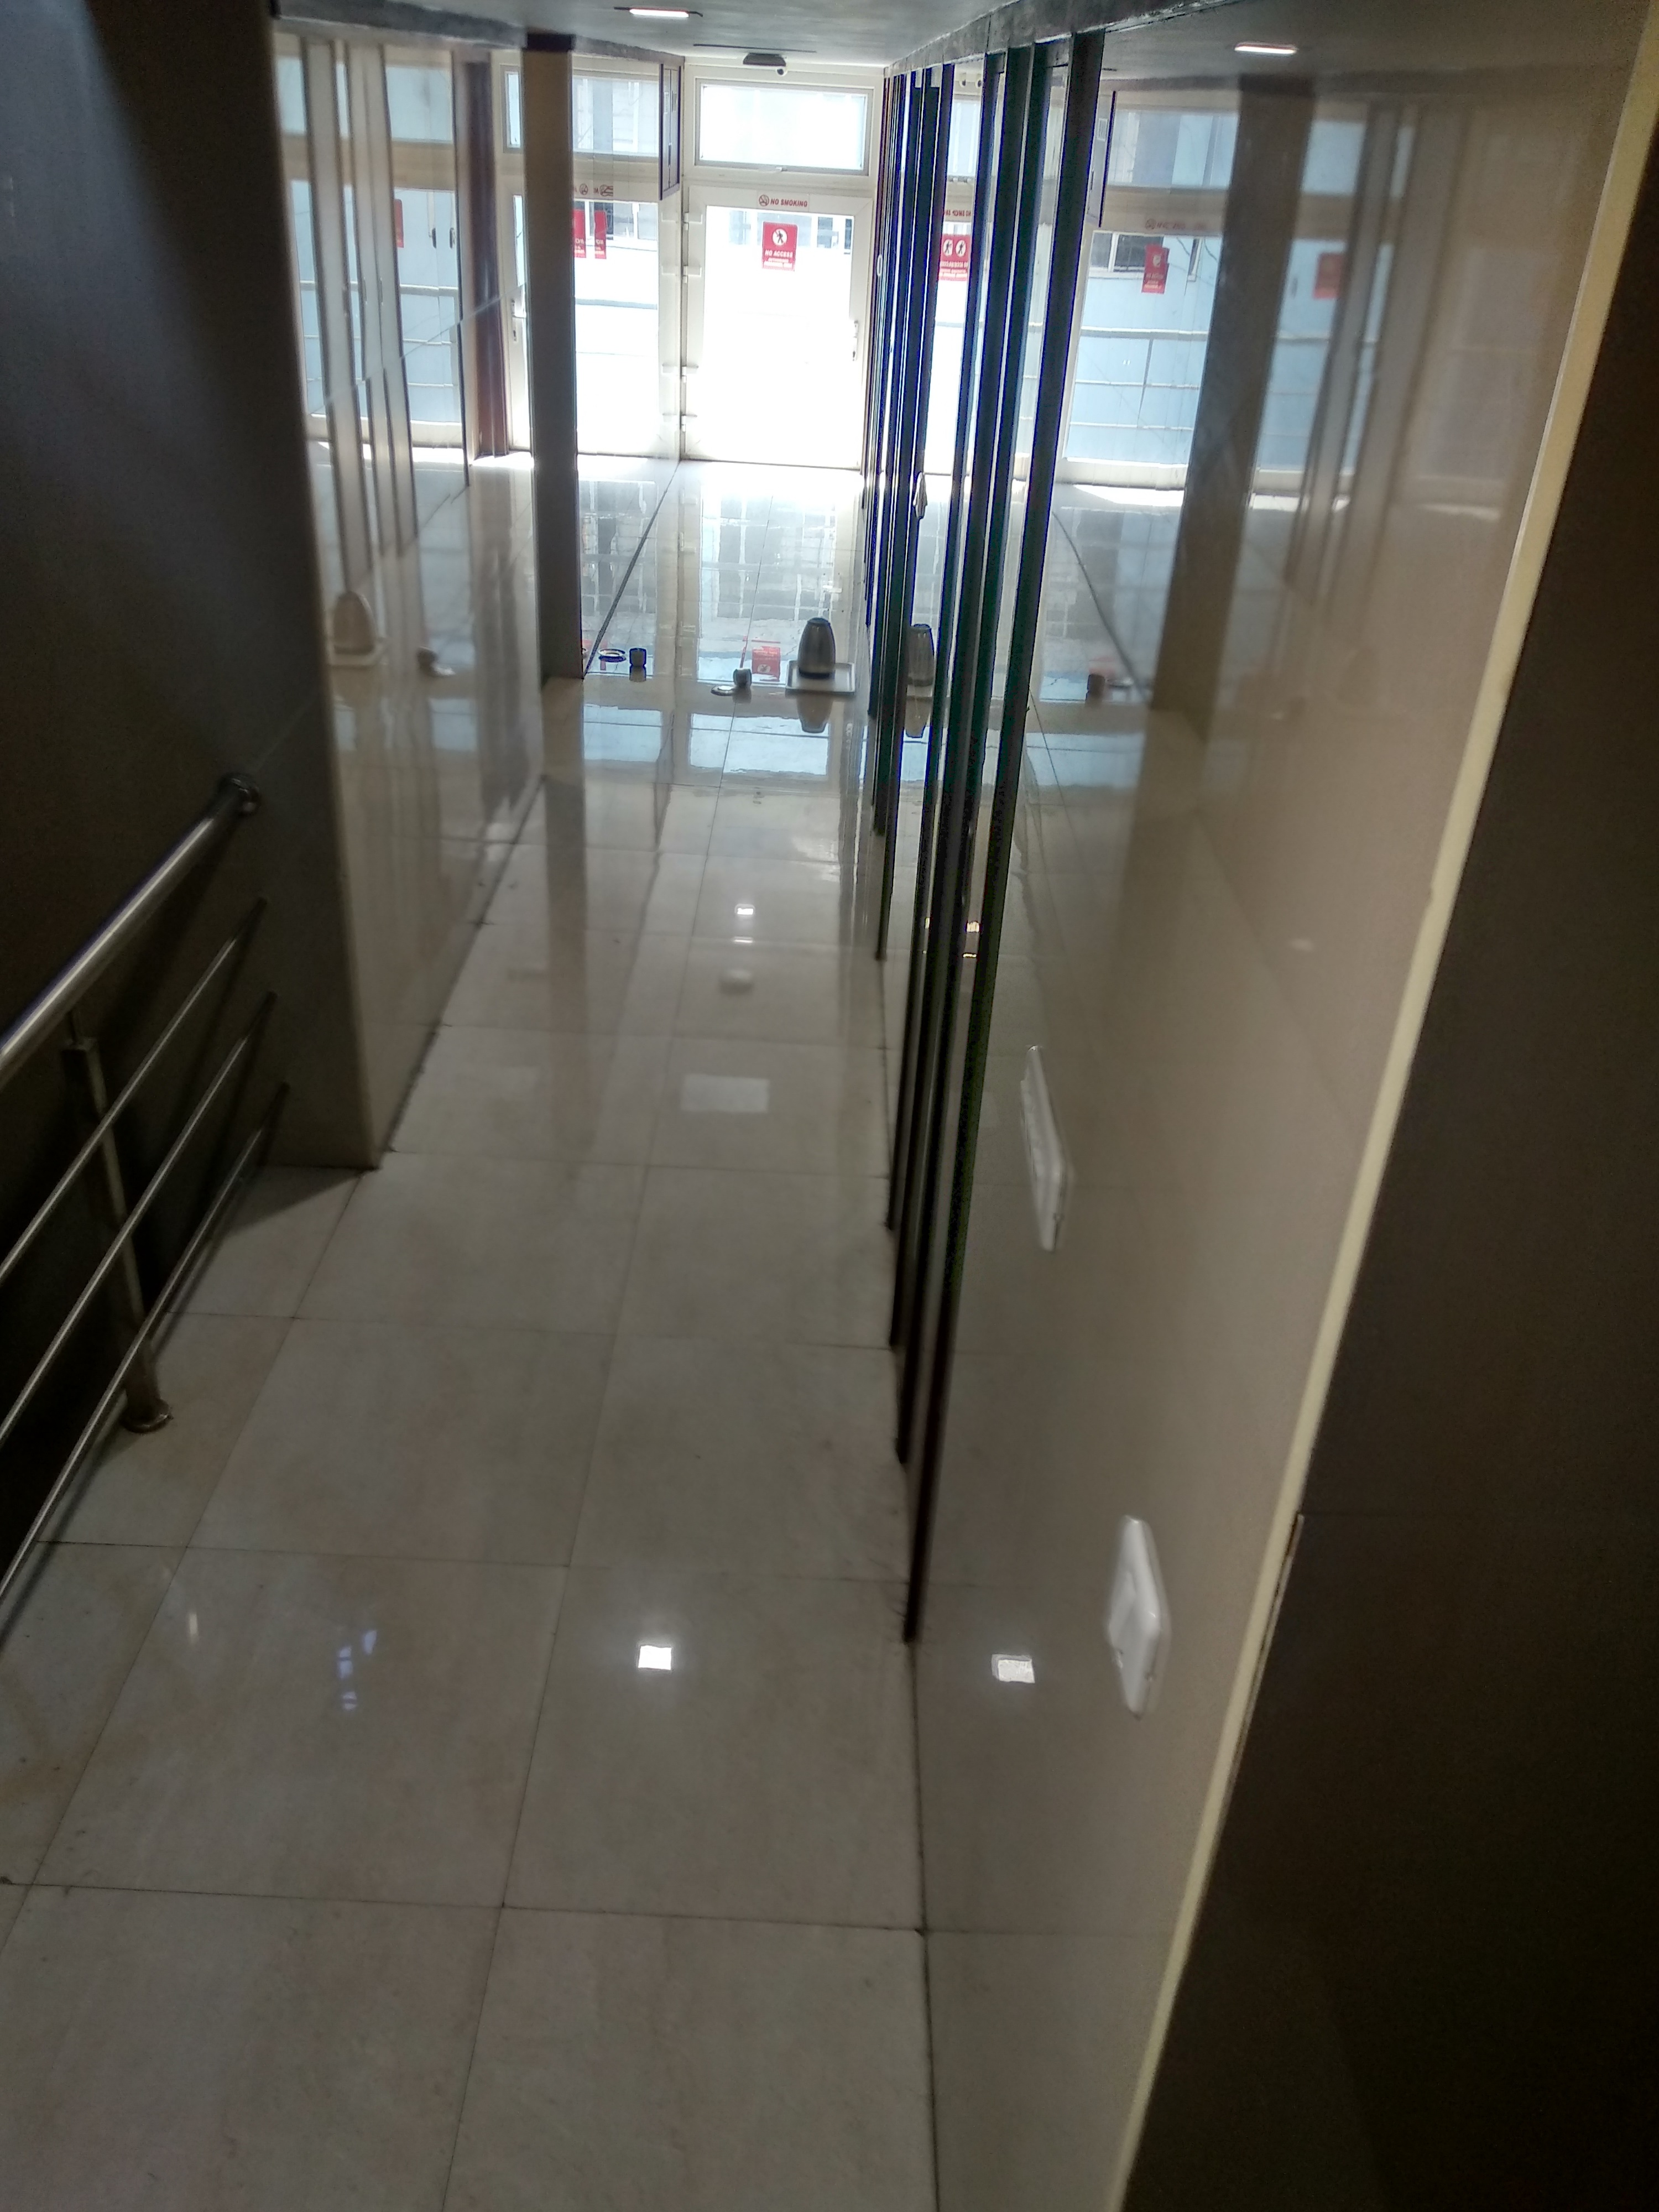CUP: (627, 646, 650, 669), (730, 671, 755, 690)
JUG: (798, 618, 838, 679)
